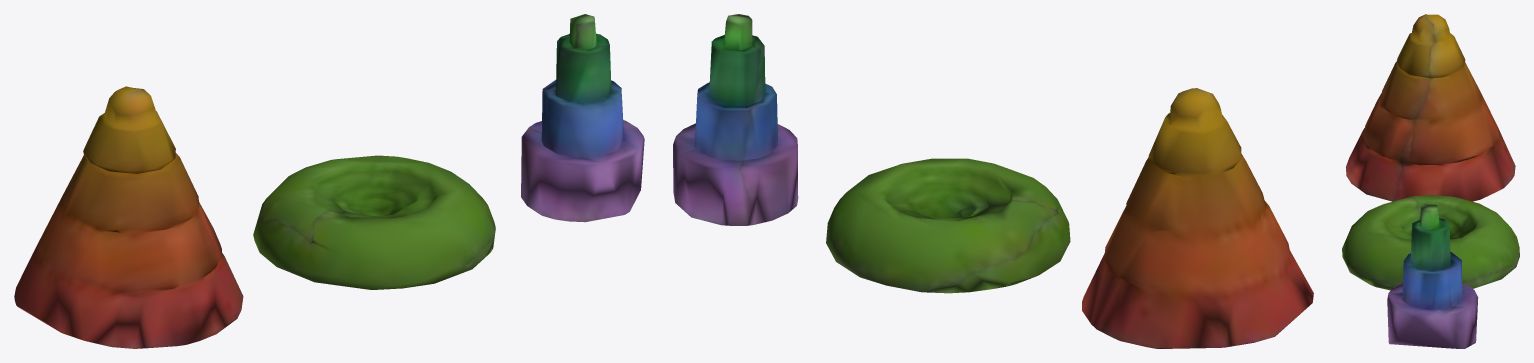
Rendered from CONE_SORTING_kg5fbARBwts-medium.glb.
The picture shows the model from 3 angles, left to right: view 1: azimuth 30°, elevation 25°; view 2: azimuth 150°, elevation 25°; view 3: azimuth 270°, elevation 25°; orthographic projection. The views are drawn at different scales.
Parts seen in each view (by area): view 1: CONE_SORTING_kg5fbARBwts; view 2: CONE_SORTING_kg5fbARBwts; view 3: CONE_SORTING_kg5fbARBwts.
Boxes of the visible parts, <box> form: CONE_SORTING_kg5fbARBwts: <box>14,14,644,348</box>; CONE_SORTING_kg5fbARBwts: <box>673,14,1313,348</box>; CONE_SORTING_kg5fbARBwts: <box>1342,14,1519,348</box>.
Size of the model in its own units: 0.3909 by 0.1343 by 0.1353.
Materials: 1 (1 with a texture image).
